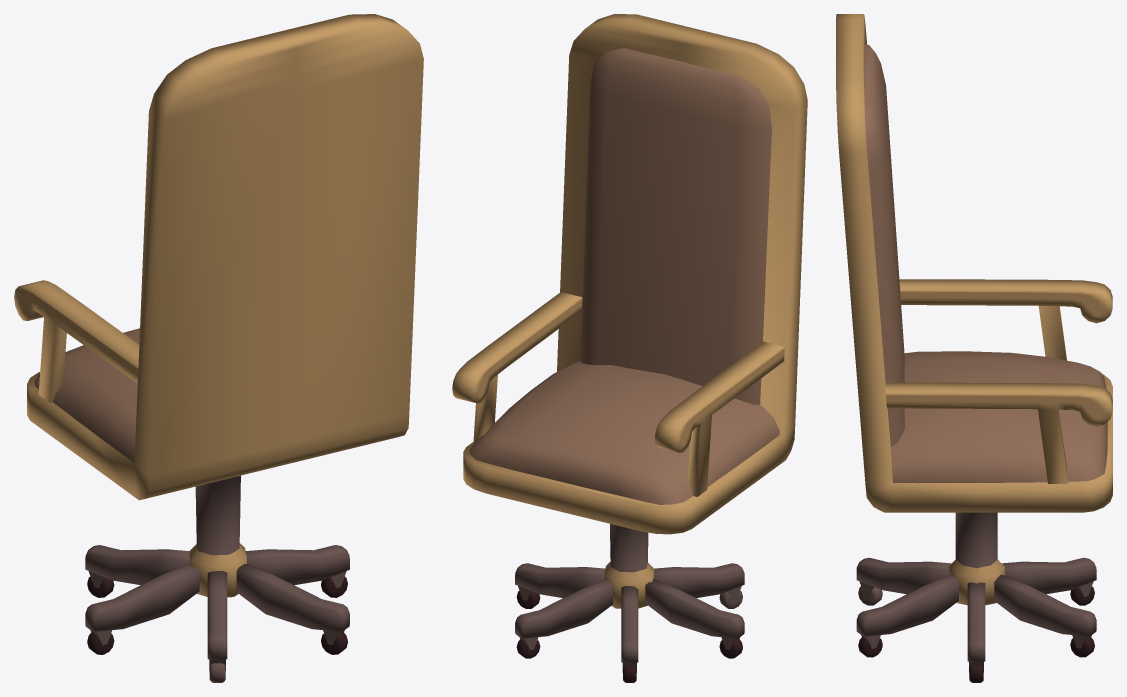
The model's file is Chair.fbx.
3 views of the same model, side by side, from view 1: azimuth 30°, elevation 25°; view 2: azimuth 150°, elevation 25°; view 3: azimuth 270°, elevation 25° (orthographic). The views are drawn at different scales.
Visible parts, largest first — view 1: Chair_Base; view 2: Chair_Base; view 3: Chair_Base.
Part boxes in pixels (left/top/right/bottom): Chair_Base: left=14, top=14, right=423, bottom=682; Chair_Base: left=452, top=14, right=807, bottom=682; Chair_Base: left=836, top=14, right=1112, bottom=682.
Bounding box in the file's own units: 1076 × 2527 × 1094.
